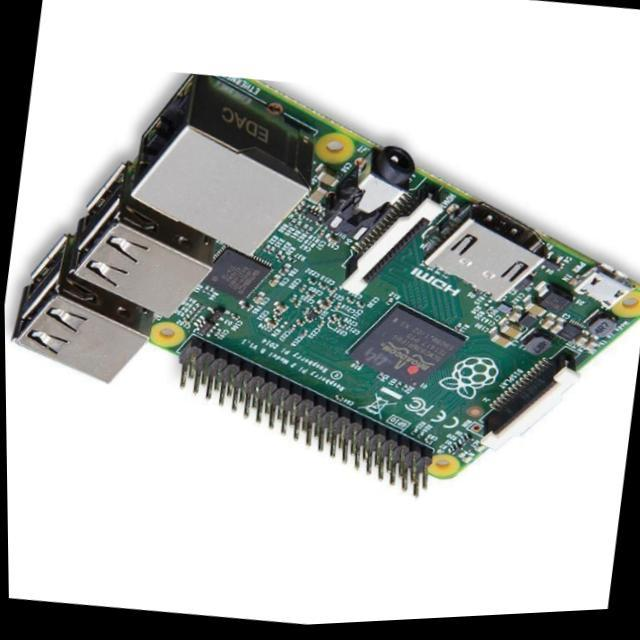Raspberry-Pi-2-B: (14, 75, 640, 495)
